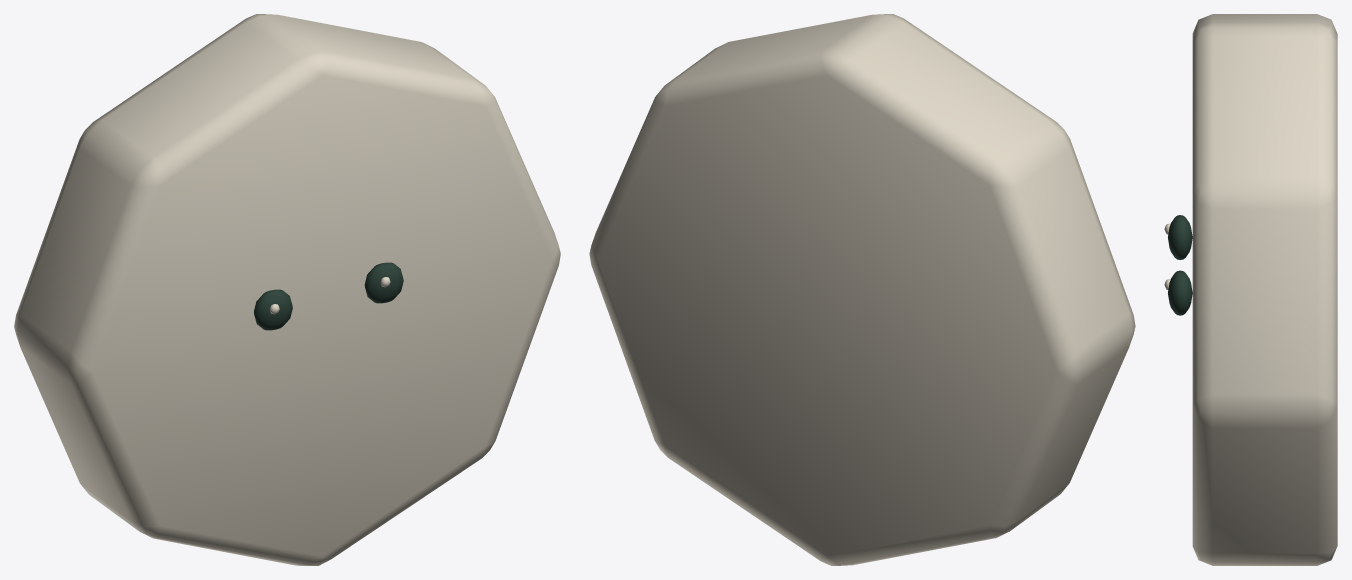
The model's file is shape_octagon.glb.
The picture shows the model from 3 angles, left to right: view 1: azimuth 30°, elevation 25°; view 2: azimuth 150°, elevation 25°; view 3: azimuth 270°, elevation 25°; orthographic projection. The views are drawn at different scales.
Visible parts, largest first — view 1: color_body, body; view 2: color_body; view 3: color_body, body.
Boxes of the visible parts, <box> form: color_body: <box>14,14,560,565</box>; body: <box>254,262,403,330</box>; color_body: <box>589,14,1135,565</box>; color_body: <box>1192,14,1337,565</box>; body: <box>1164,215,1192,315</box>.
Size of the model in its own units: 1.28 by 1.28 by 0.382.
